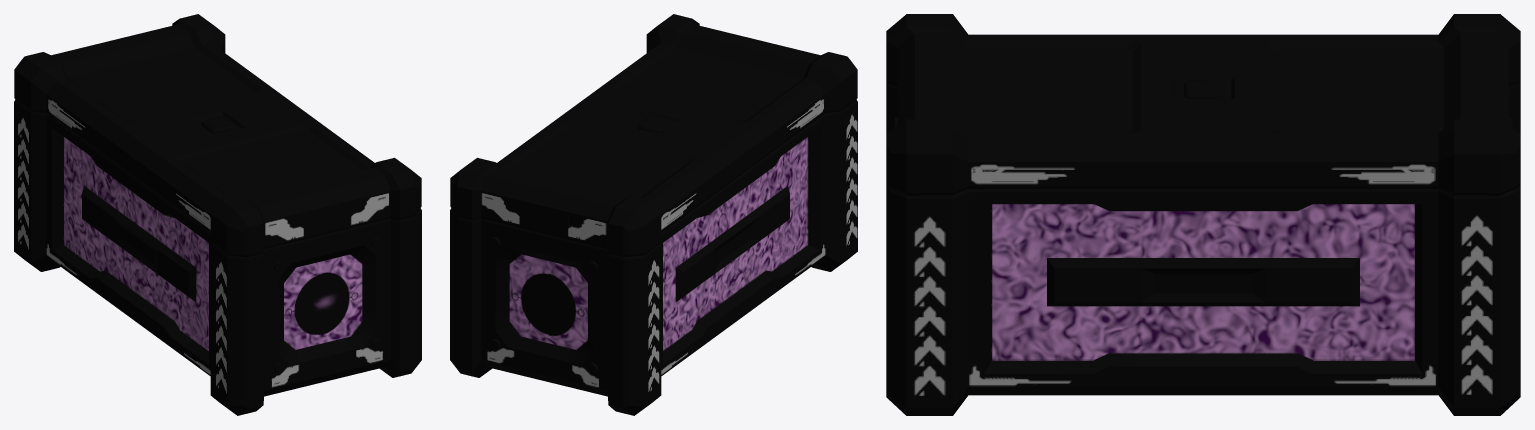
Rendered from contenedor_sci-_fi_pbr.glb.
3 views of the same model, side by side, from view 1: azimuth 30°, elevation 25°; view 2: azimuth 150°, elevation 25°; view 3: azimuth 270°, elevation 25° (orthographic). The views are drawn at different scales.
Visible parts, largest first — view 1: ContenedorSciFi Cocinado_0; view 2: ContenedorSciFi Cocinado_0; view 3: ContenedorSciFi Cocinado_0.
Part boxes in pixels (bbox=[...]): ContenedorSciFi Cocinado_0: bbox=[14, 14, 421, 415]; ContenedorSciFi Cocinado_0: bbox=[450, 14, 857, 415]; ContenedorSciFi Cocinado_0: bbox=[886, 14, 1520, 415].
Bounding box in the file's own units: 2 × 2 × 4.05.
Materials: 1 (1 with a texture image).
